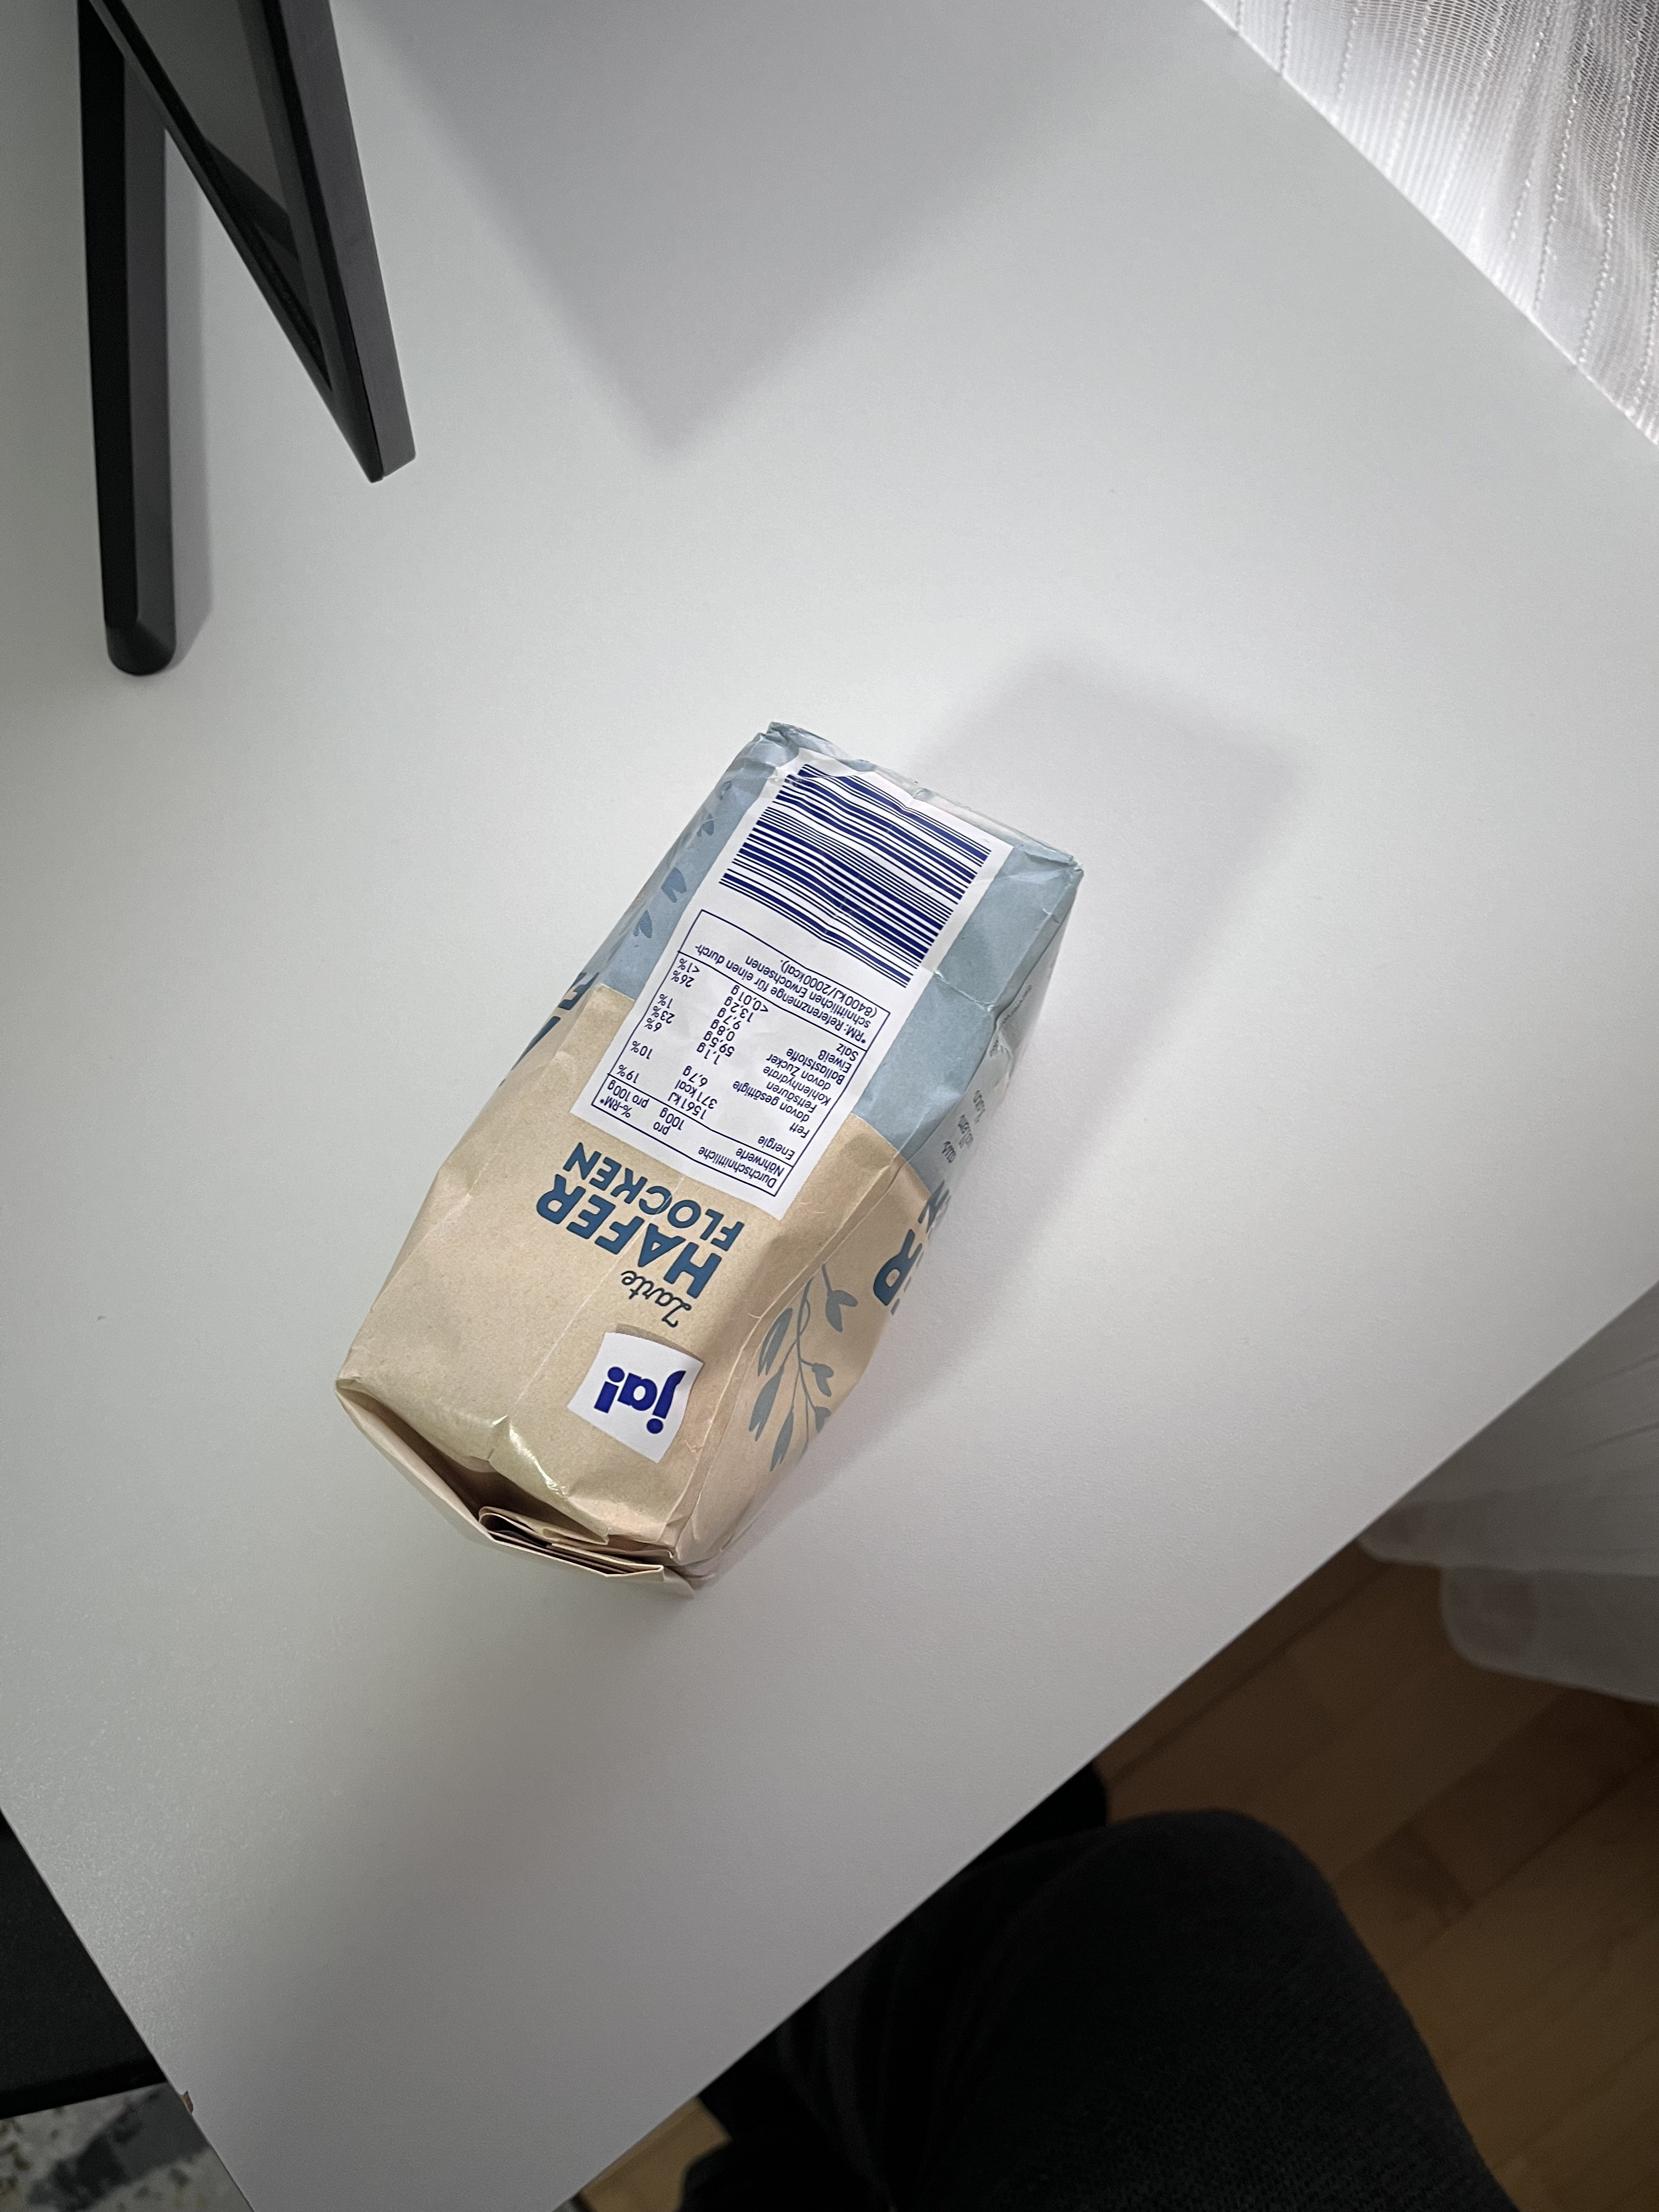haferflocken_ja: (333, 726, 1080, 1592)
